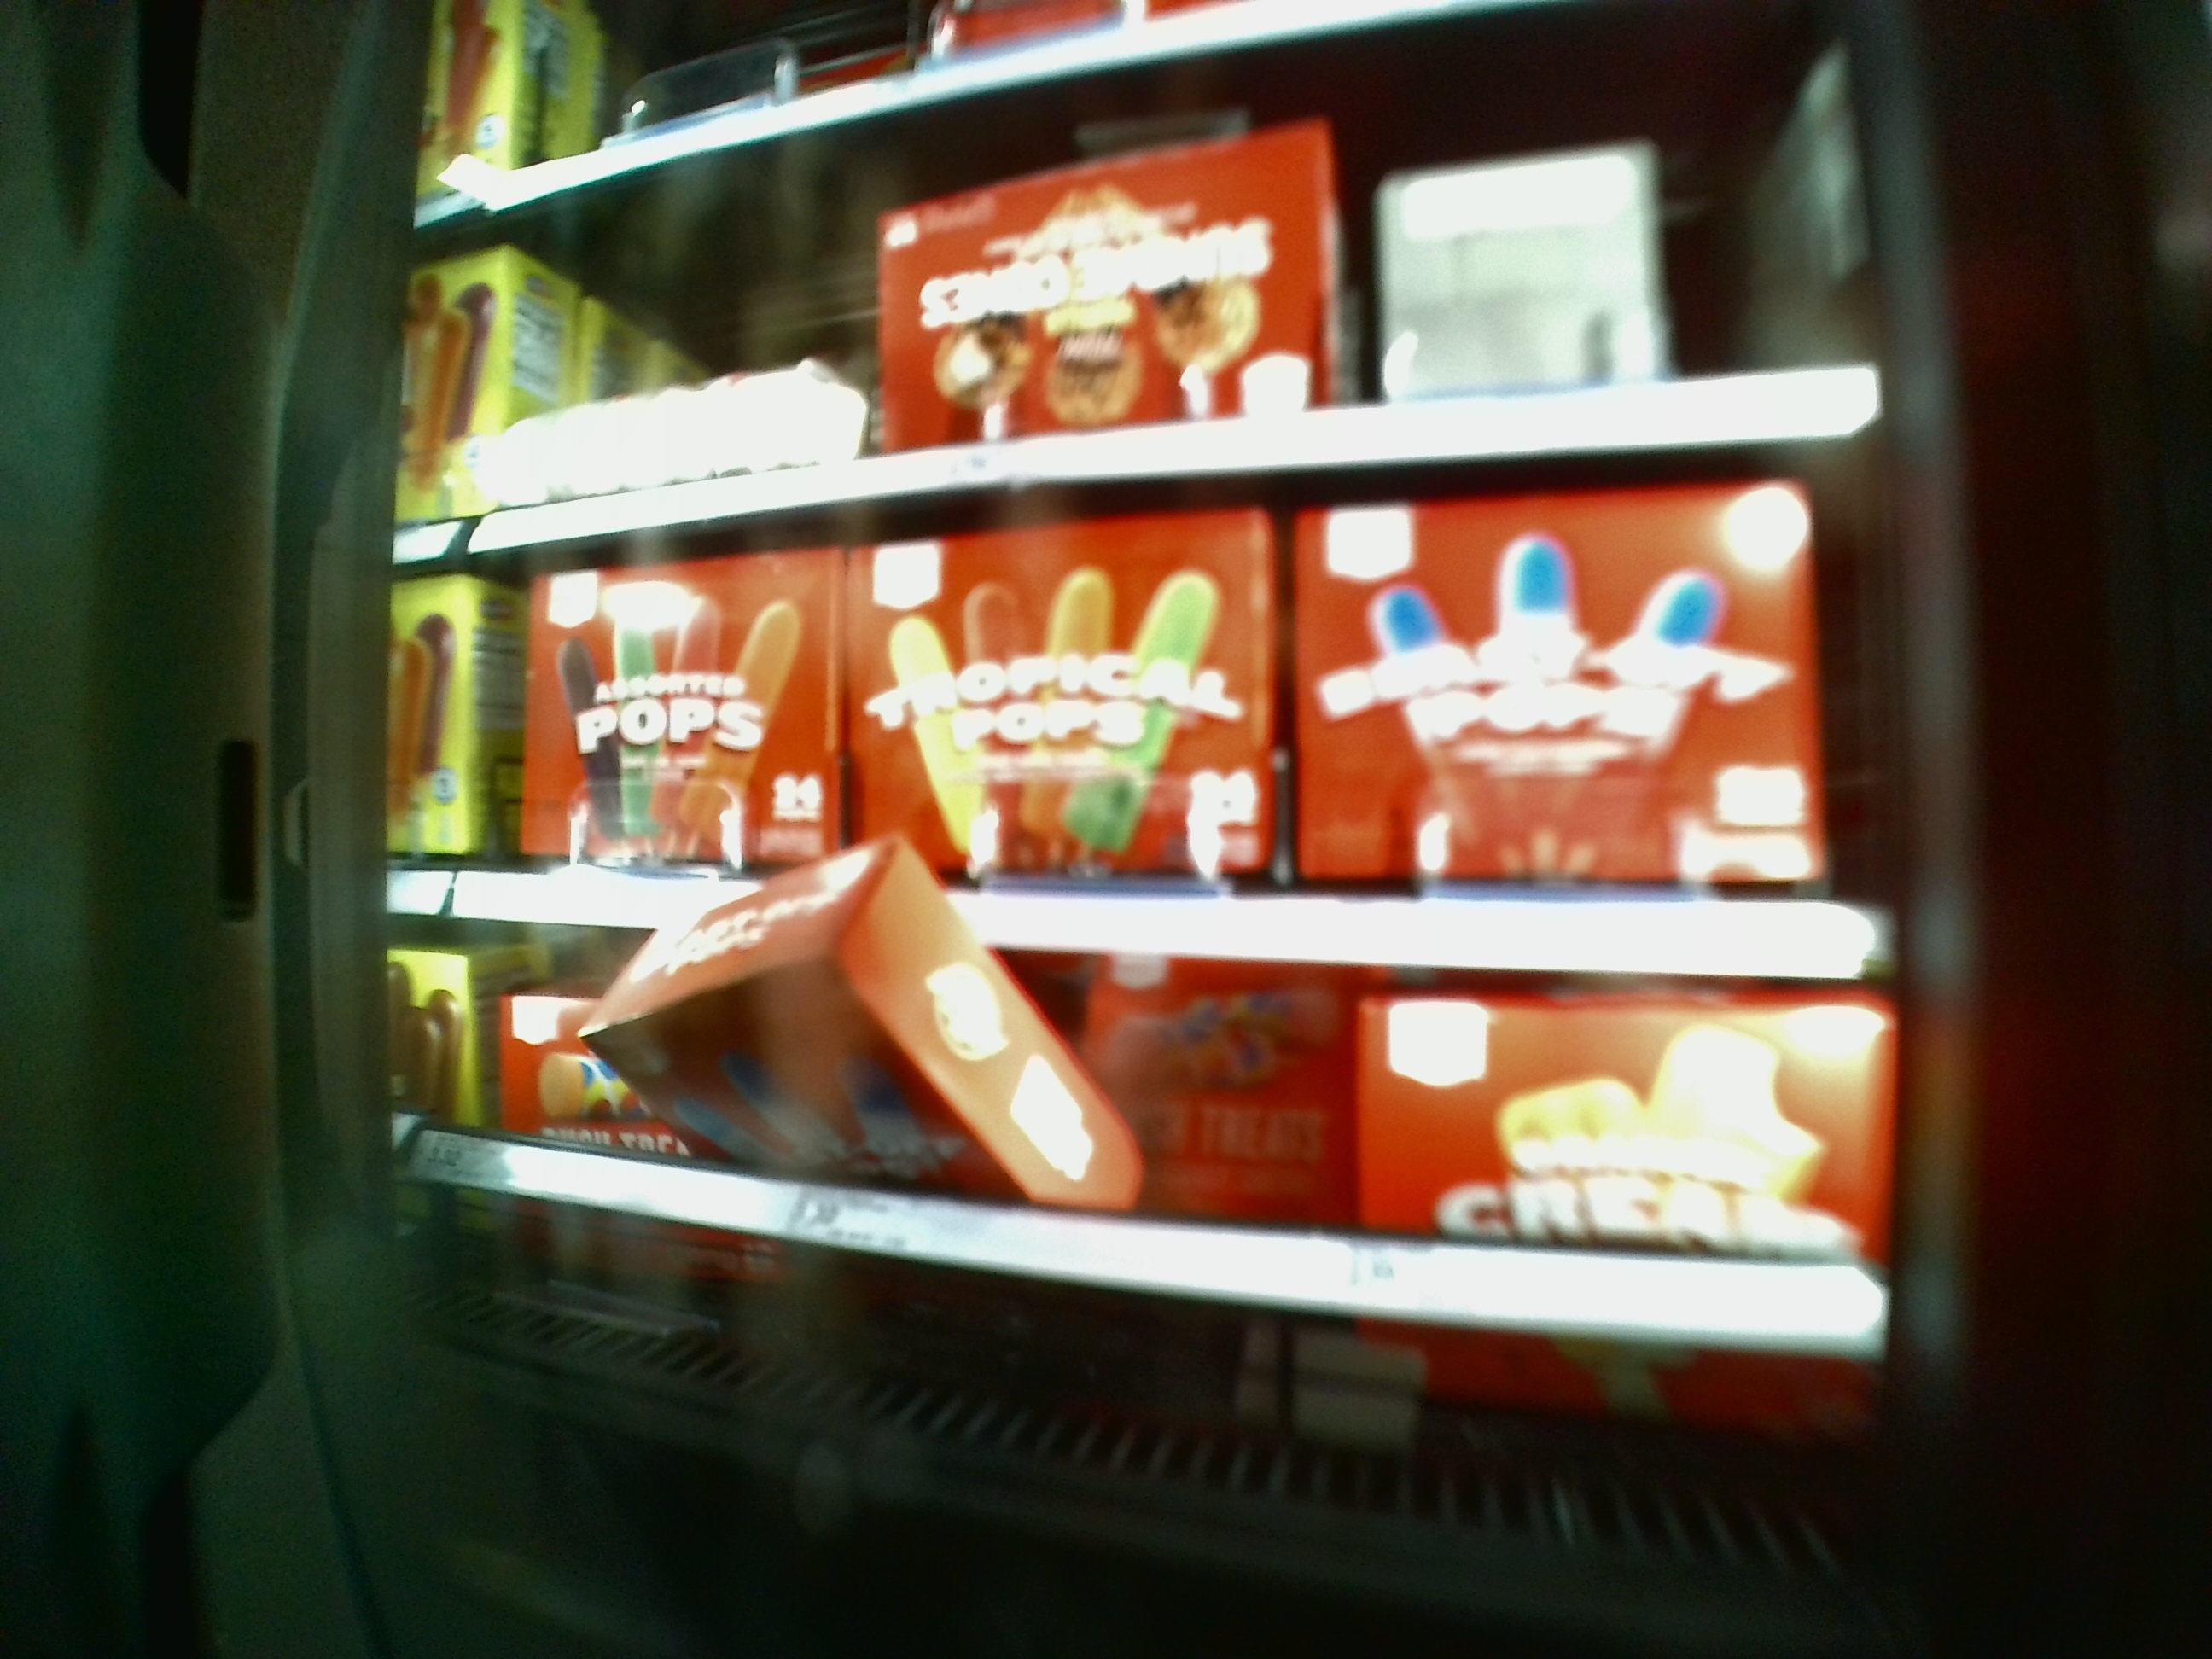shelf: (392, 934, 1893, 1467), (378, 490, 1900, 953), (408, 113, 1885, 491)
